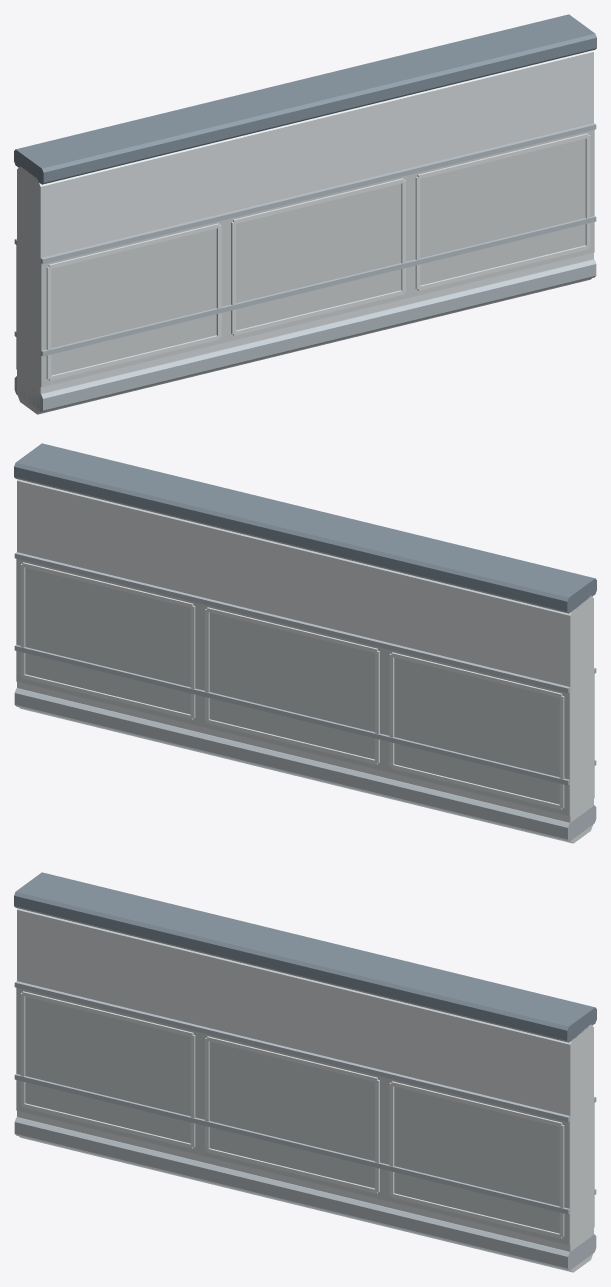
Rendered from wall_hospital_quiet.glb.
The picture shows the model from 3 angles, top to bottom: view 1: azimuth 30°, elevation 25°; view 2: azimuth 150°, elevation 25°; view 3: azimuth 330°, elevation 25°; orthographic projection.
Visible parts, largest first — view 1: Part_005, Part_001, Part_002, Part_003, Part_031, Part_033, Part_009, Part_025, Part_007, Part_017, Part_023, Part_015 (+6 smaller); view 2: Part_004, Part_001, Part_002, Part_003, Part_030, Part_032, Part_008, Part_024, Part_006, Part_016, Part_022, Part_014 (+6 smaller); view 3: Part_005, Part_001, Part_002, Part_003, Part_031, Part_033, Part_009, Part_025, Part_023, Part_017, Part_007, Part_015 (+6 smaller).
Part boxes in pixels (x1=…): Part_005: x1=40, y1=129, x2=594, y2=387; Part_001: x1=17, y1=50, x2=593, y2=414; Part_002: x1=14, y1=14, x2=596, y2=184; Part_003: x1=14, y1=259, x2=596, y2=412; Part_031: x1=40, y1=123, x2=596, y2=264; Part_033: x1=41, y1=216, x2=596, y2=356; Part_009: x1=48, y1=223, x2=219, y2=268; Part_025: x1=417, y1=133, x2=588, y2=178; Part_007: x1=48, y1=335, x2=219, y2=380; Part_017: x1=233, y1=178, x2=404, y2=223; Part_023: x1=417, y1=245, x2=588, y2=290; Part_015: x1=233, y1=290, x2=404, y2=335; Part_004: x1=16, y1=558, x2=570, y2=816; Part_001: x1=17, y1=479, x2=593, y2=843; Part_002: x1=14, y1=443, x2=596, y2=613; Part_003: x1=14, y1=688, x2=596, y2=841; Part_030: x1=14, y1=552, x2=570, y2=693; Part_032: x1=14, y1=645, x2=569, y2=785; Part_008: x1=391, y1=652, x2=562, y2=698; Part_024: x1=22, y1=562, x2=193, y2=607; Part_006: x1=391, y1=764, x2=562, y2=809; Part_016: x1=206, y1=607, x2=377, y2=652; Part_022: x1=22, y1=674, x2=193, y2=719; Part_014: x1=206, y1=719, x2=377, y2=764; Part_005: x1=16, y1=987, x2=570, y2=1245; Part_001: x1=17, y1=908, x2=593, y2=1272; Part_002: x1=14, y1=872, x2=596, y2=1042; Part_003: x1=14, y1=1117, x2=596, y2=1270; Part_031: x1=14, y1=981, x2=570, y2=1122; Part_033: x1=14, y1=1074, x2=569, y2=1214; Part_009: x1=22, y1=991, x2=193, y2=1036; Part_025: x1=391, y1=1081, x2=562, y2=1127; Part_023: x1=391, y1=1193, x2=562, y2=1238; Part_017: x1=206, y1=1036, x2=377, y2=1082; Part_007: x1=22, y1=1103, x2=193, y2=1148; Part_015: x1=206, y1=1148, x2=377, y2=1193.
Bounding box in the file's own units: 2.7 × 1.16 × 0.25.
